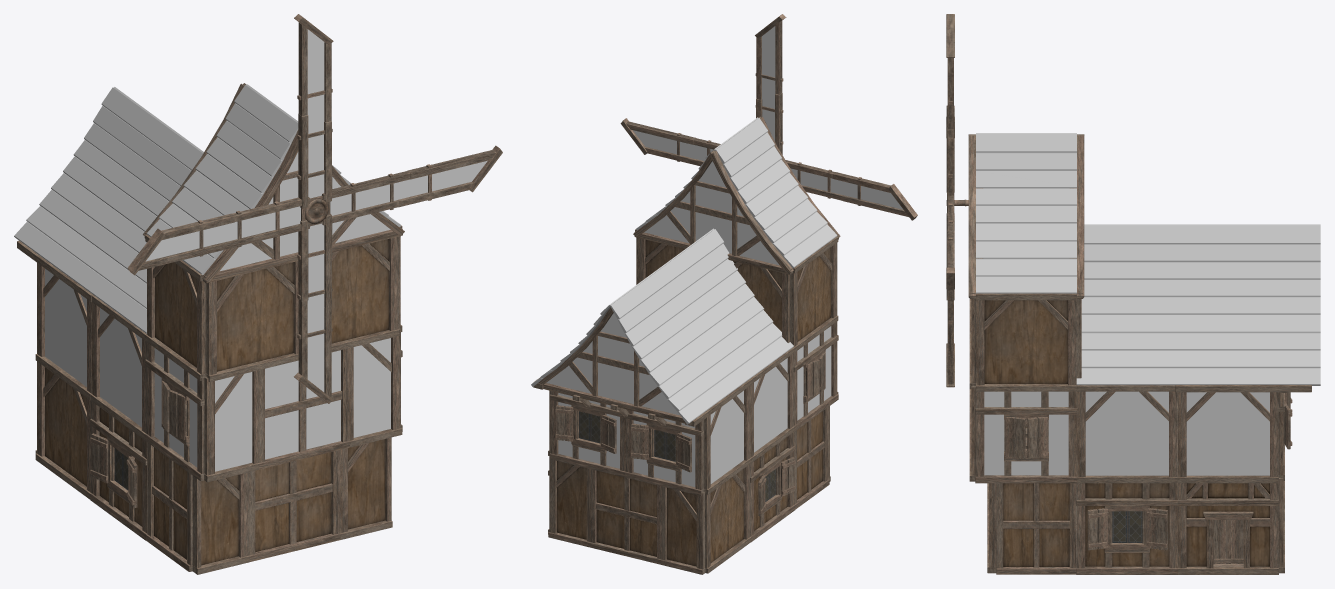
Rendered from Windmill_House_1A1.fbx.
3 views of the same model, side by side, from view 1: azimuth 30°, elevation 25°; view 2: azimuth 150°, elevation 25°; view 3: azimuth 270°, elevation 25° (orthographic). The views are drawn at different scales.
Visible parts, largest first — view 1: Windmill_House_1A1, WindMill_Blades_A; view 2: Windmill_House_1A1, WindMill_Blades_A; view 3: Windmill_House_1A1, WindMill_Blades_A, Windmill_Door_A.
Boxes of the visible parts, <box> form: Windmill_House_1A1: <box>14,83,404,574</box>; WindMill_Blades_A: <box>127,14,502,403</box>; Windmill_House_1A1: <box>531,116,840,574</box>; WindMill_Blades_A: <box>620,14,917,220</box>; Windmill_House_1A1: <box>968,133,1320,574</box>; WindMill_Blades_A: <box>946,14,968,387</box>; Windmill_Door_A: <box>1213,519,1243,564</box>.
Size of the model in its own units: 1560 by 2226 by 1483.
